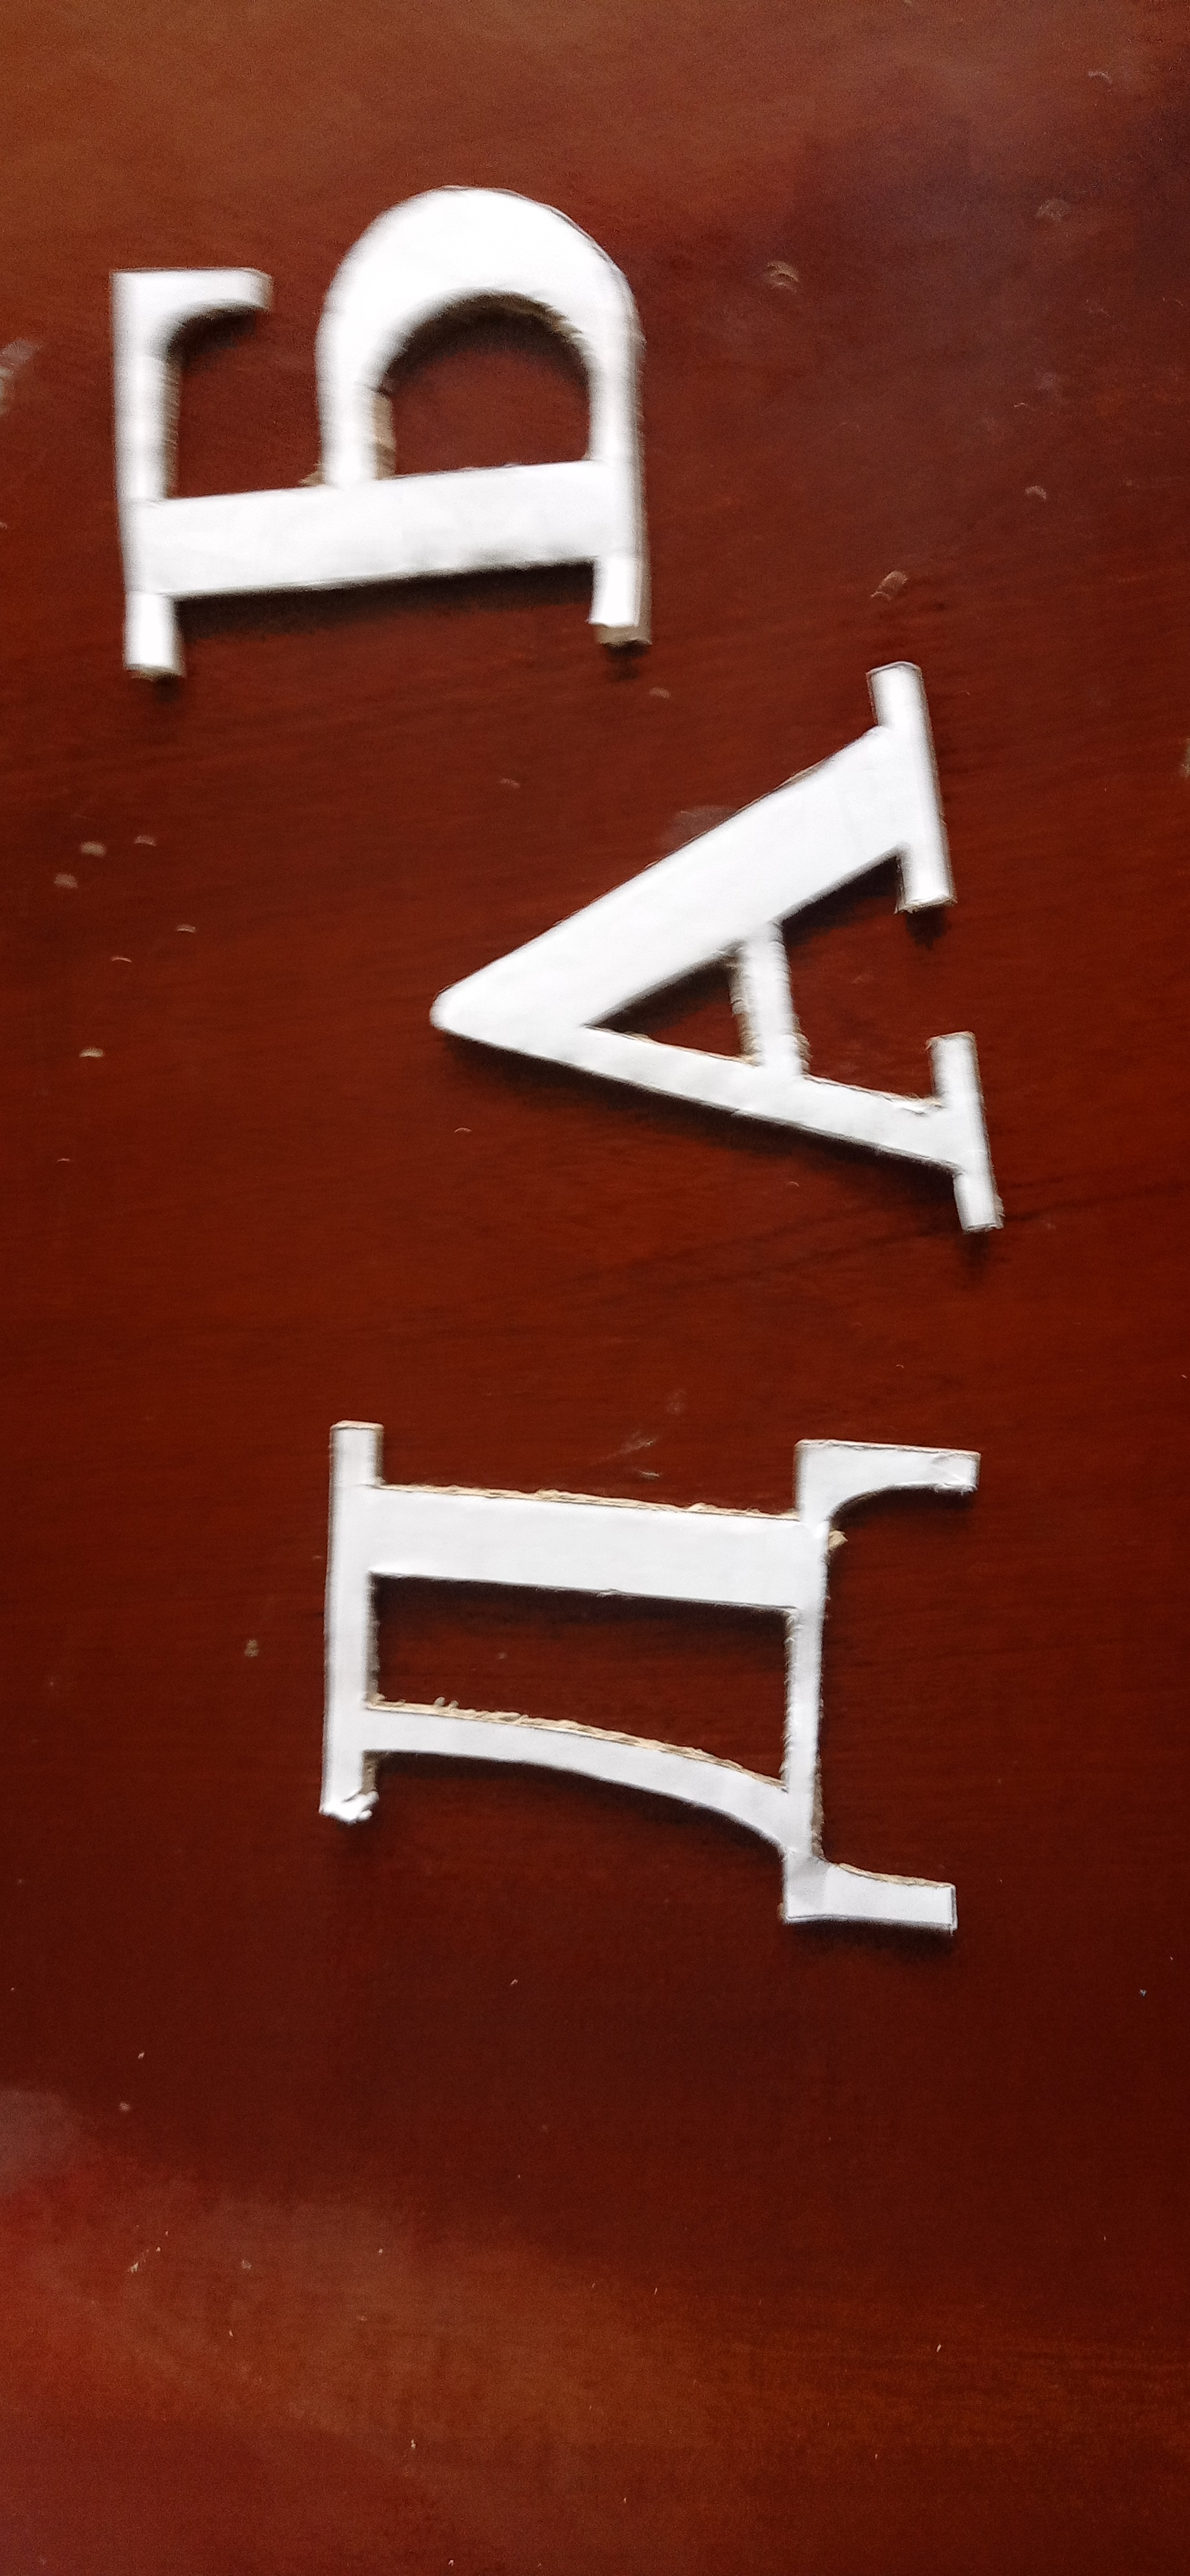a: (431, 657, 1008, 1231)
b: (115, 179, 656, 683)
d: (316, 1403, 985, 1937)
